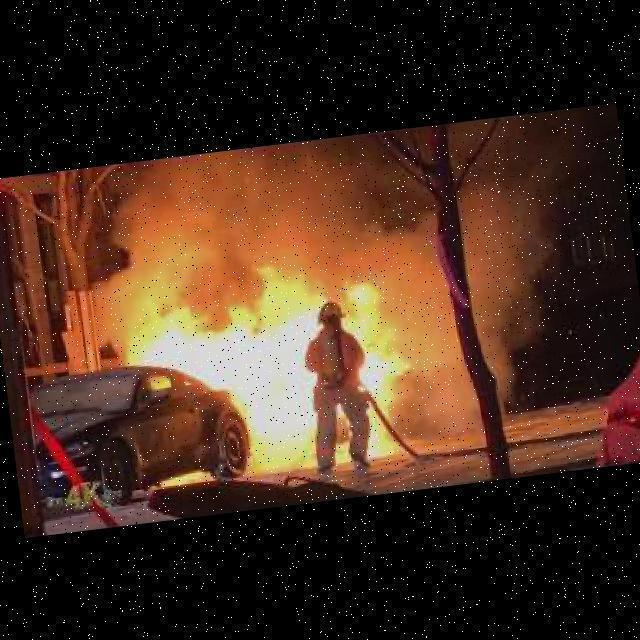Fire: (122, 261, 340, 489), (335, 276, 411, 460)
Smoke: (366, 110, 594, 447), (72, 132, 380, 308)
